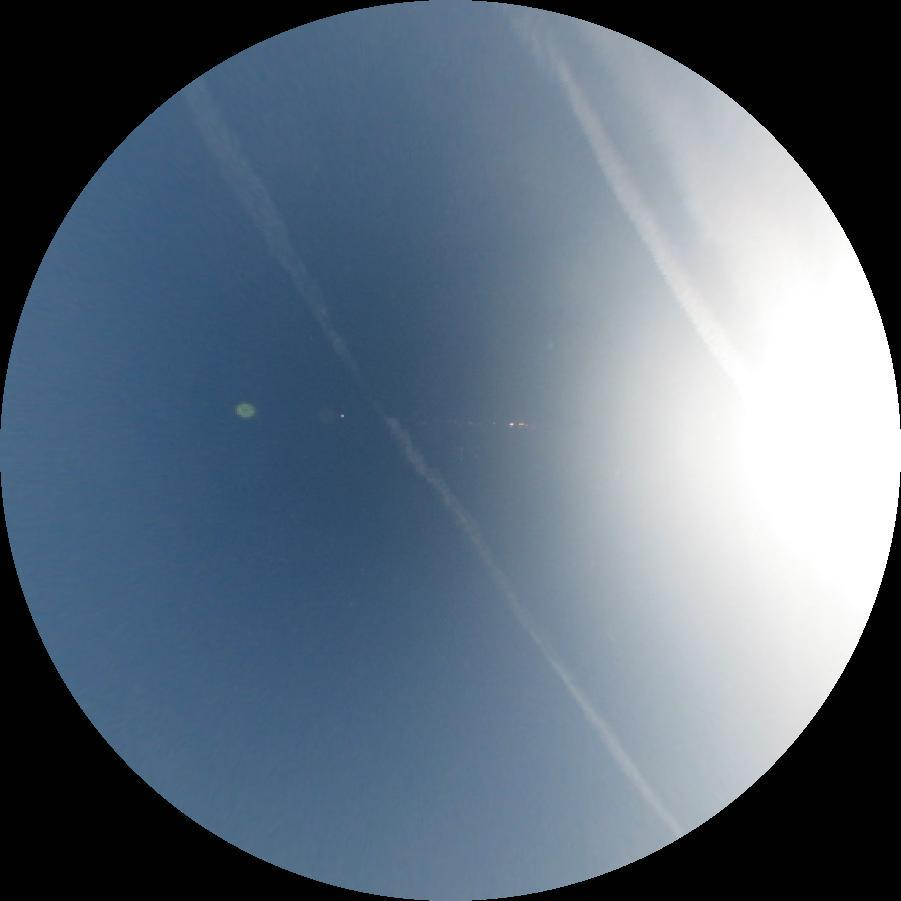contrail veryold: (171, 75, 686, 852)
